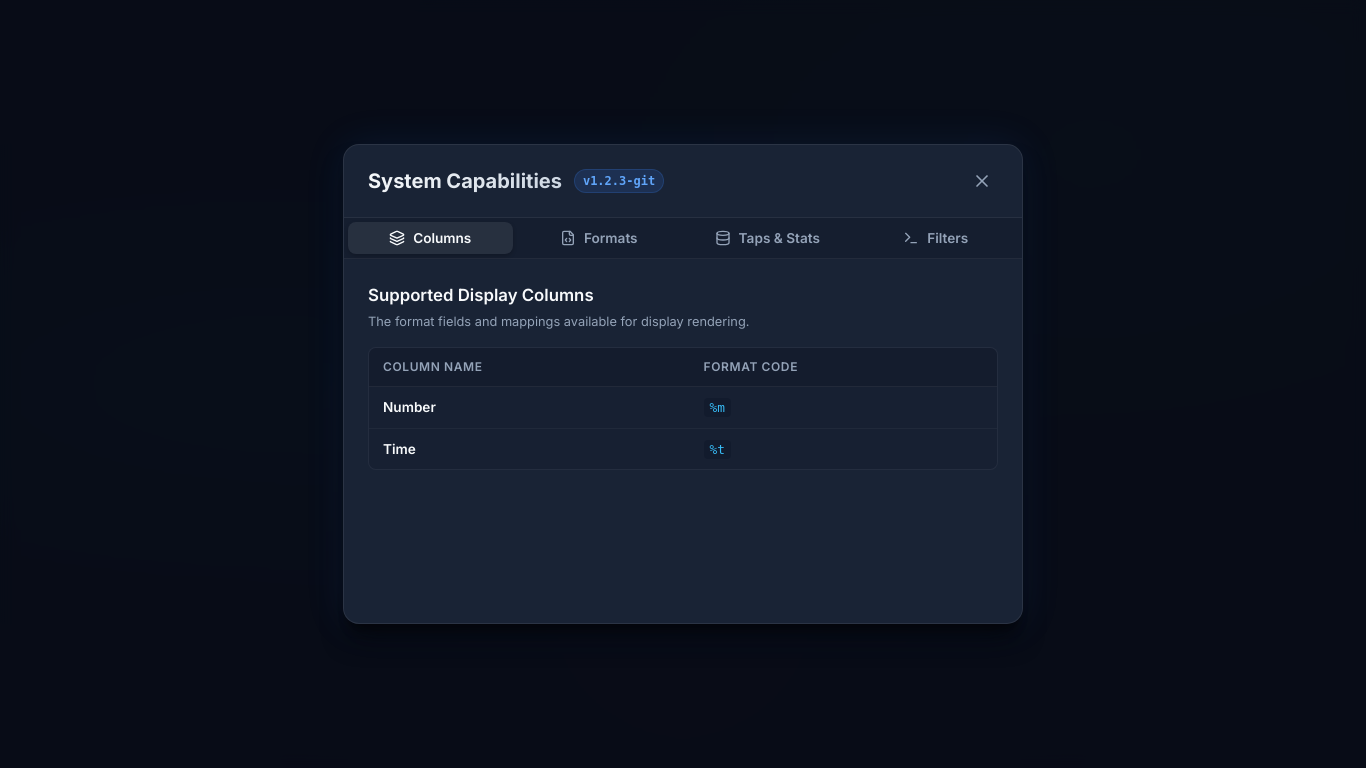
Scenario: SystemInfoModal › switches tabs and displays active tab contents
Click the button with class "tab-button" showing "Formats" at (599, 238), box x1=516 y1=222 x2=681 y2=254
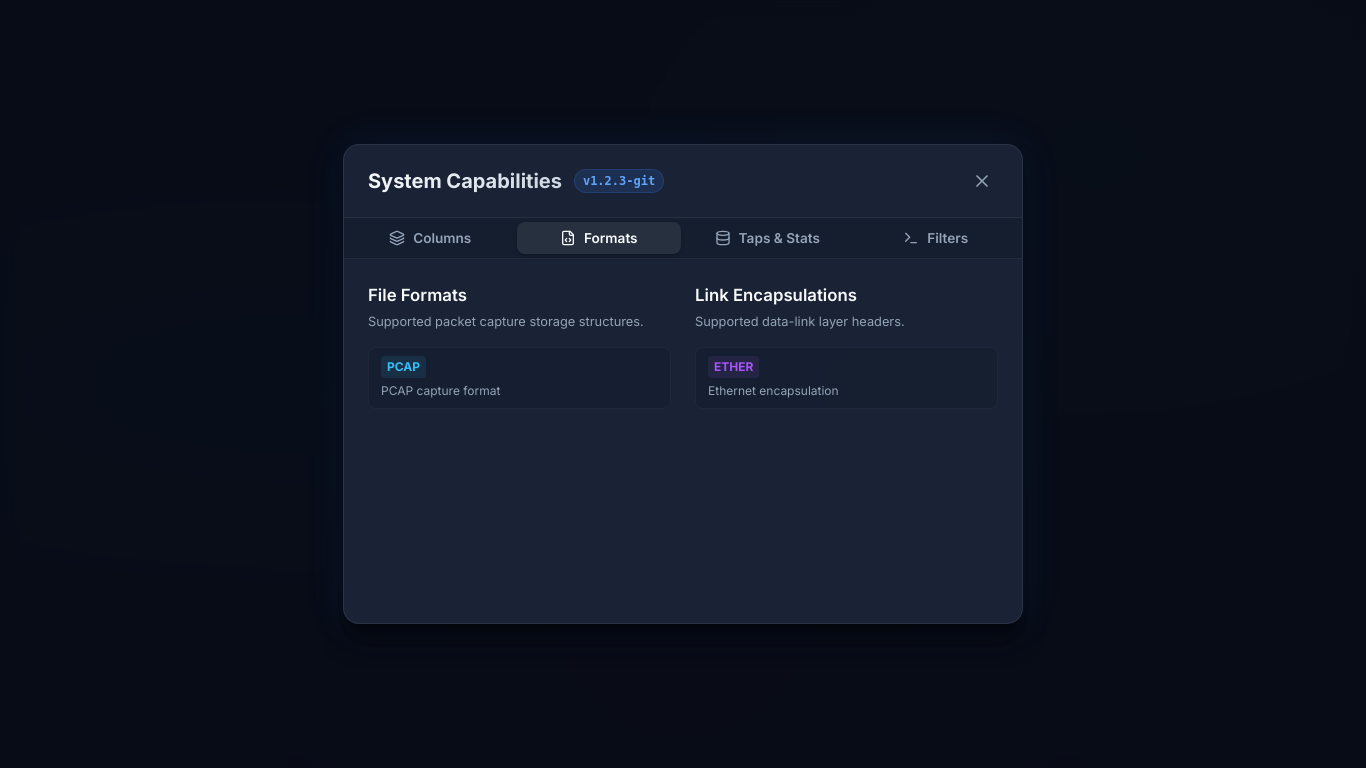
Check: the text "PCAP capture format" is shown, box x1=381 y1=383 x2=500 y2=398
Check: the text "Ethernet encapsulation" is shown, box x1=708 y1=383 x2=839 y2=398
